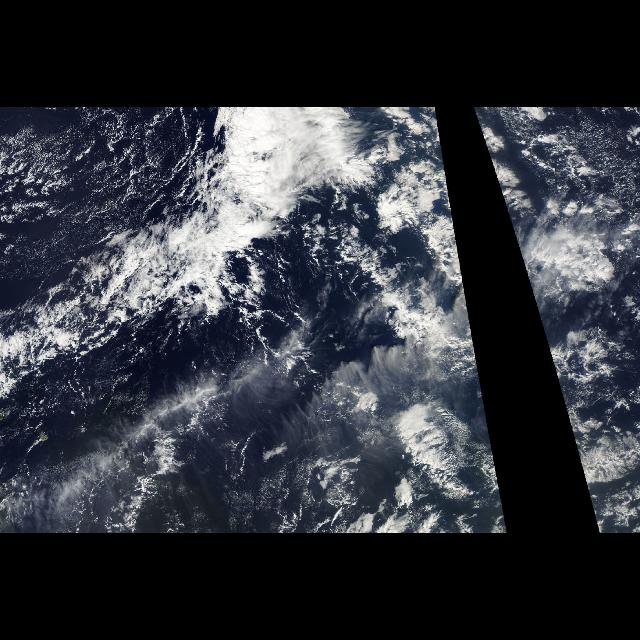Fish: (0, 210, 278, 532), (298, 212, 478, 364)
Sugar: (1, 108, 208, 274), (492, 108, 640, 220)
